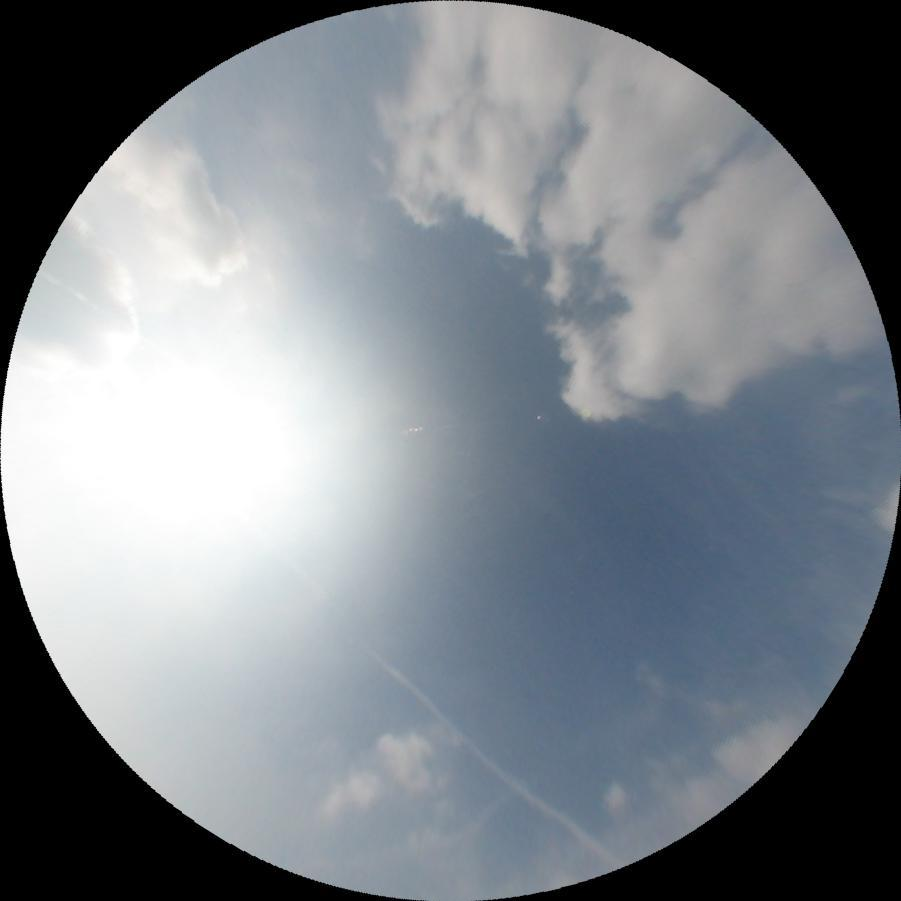contrail old: (362, 649, 621, 870)
sun: (0, 310, 314, 605)
